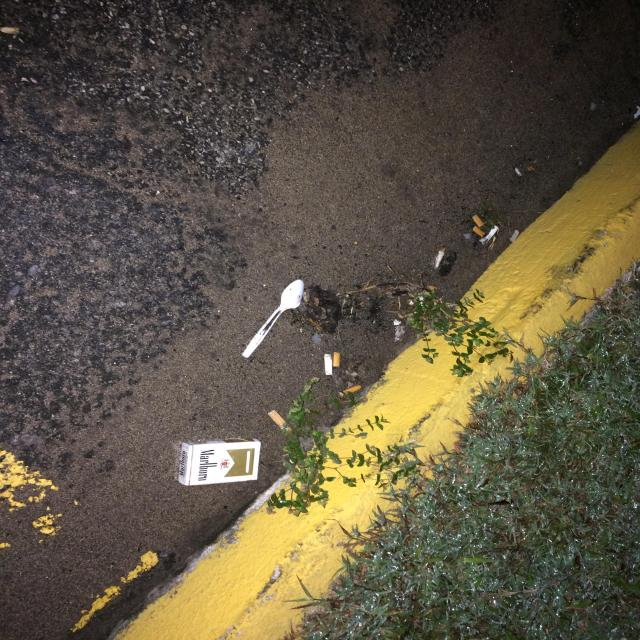litter: (241, 280, 304, 357), (178, 437, 260, 485), (267, 410, 292, 433), (479, 225, 499, 244), (342, 385, 362, 395), (434, 251, 444, 267), (325, 354, 332, 375), (472, 215, 484, 227), (508, 229, 519, 242), (333, 351, 340, 367), (474, 226, 484, 236), (514, 167, 522, 175)
